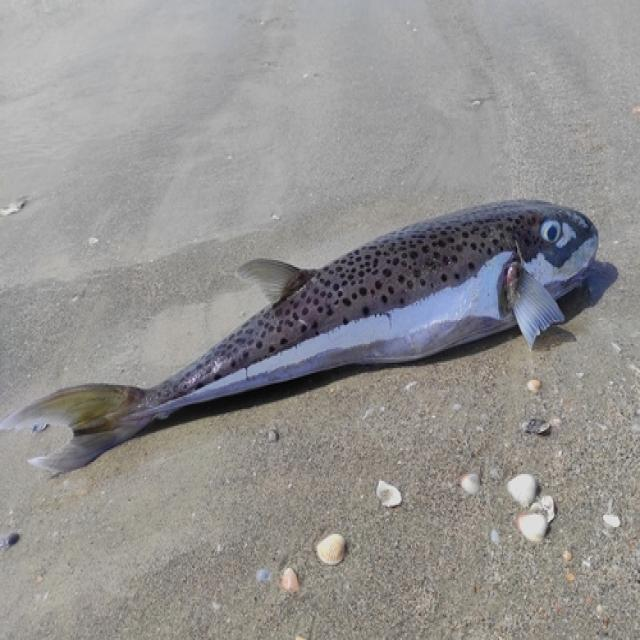Balik: (0, 201, 597, 472)
